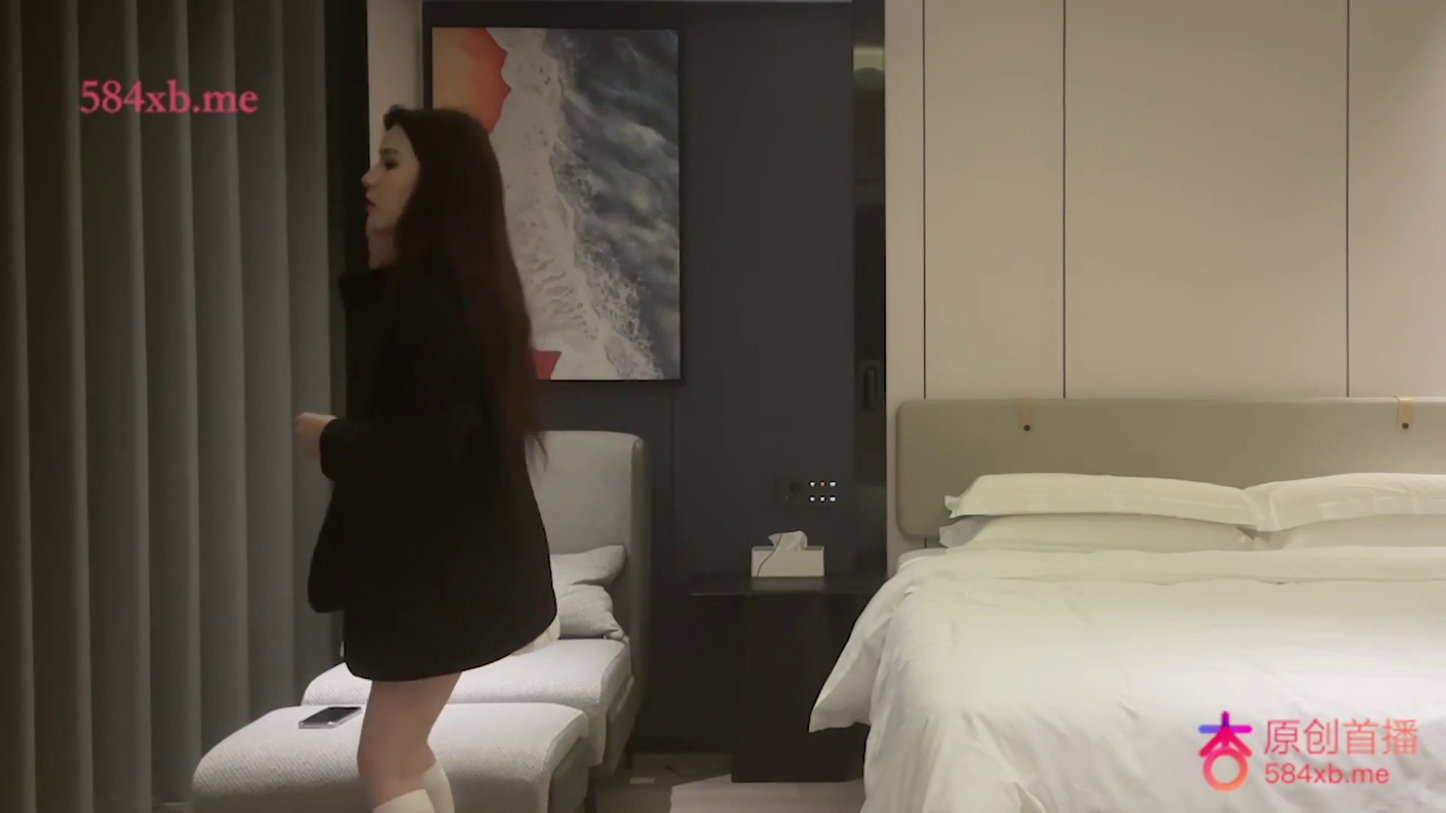stand: (293, 105, 560, 809)
